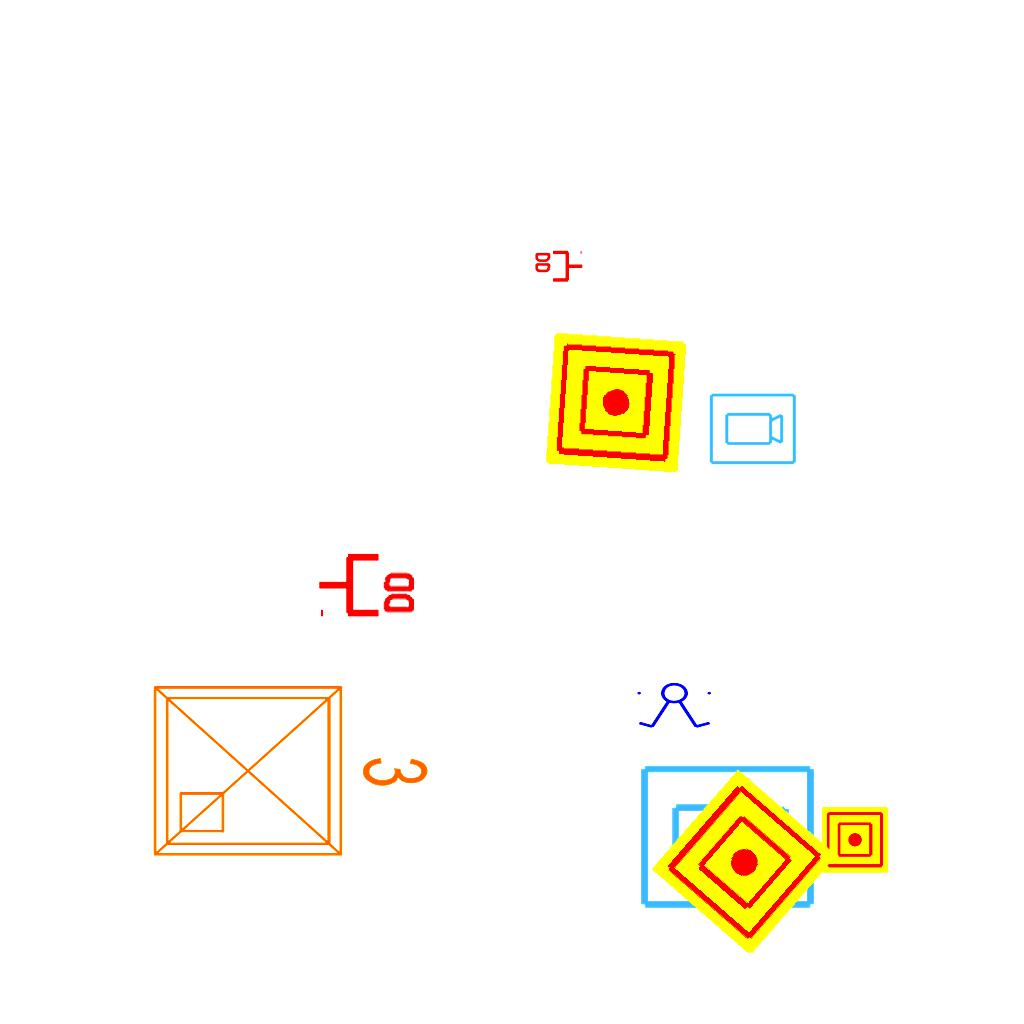Datenanschluss_zweifach: (316, 549, 419, 618), (533, 250, 584, 284)
Einbaudownlights_LED_Konferenzraeume: (139, 663, 439, 871)
KFO_Kamera_mit_Festobjektiv: (636, 761, 818, 915), (707, 391, 798, 468)
NAM-Nichtautomatischer_Melder: (650, 768, 838, 956), (545, 332, 687, 474), (822, 807, 888, 873)
Serienschalter: (633, 682, 717, 730)
